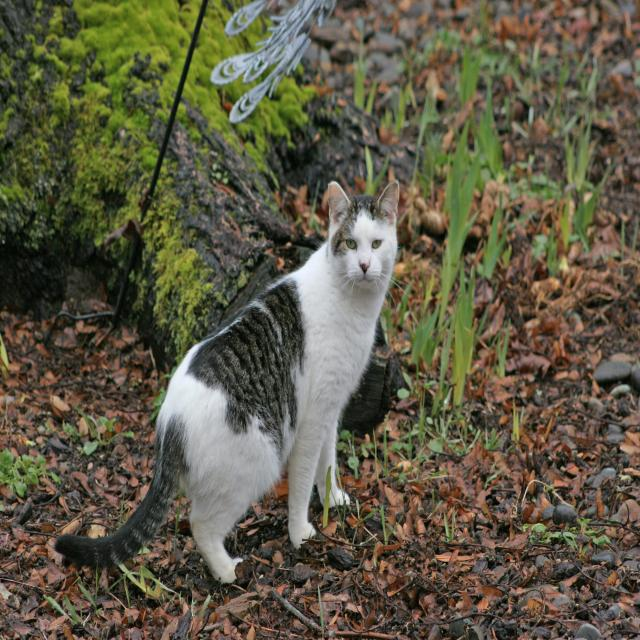cat: (56, 182, 399, 583)
